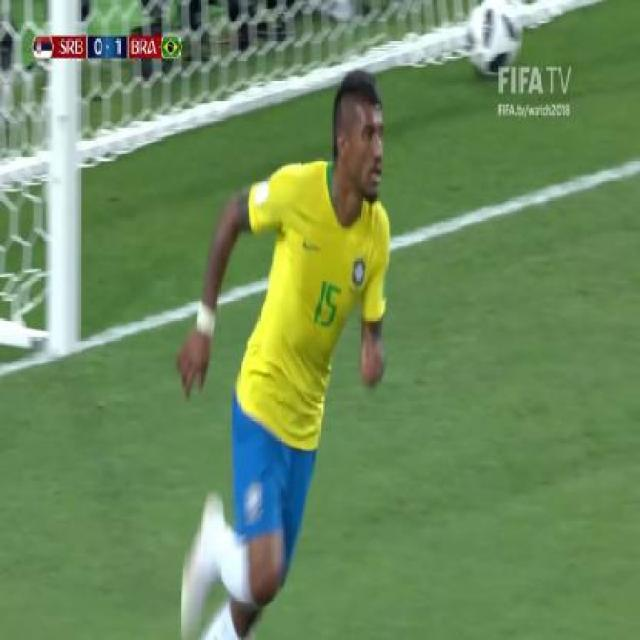ball: (457, 0, 528, 85)
player: (152, 64, 416, 640)
